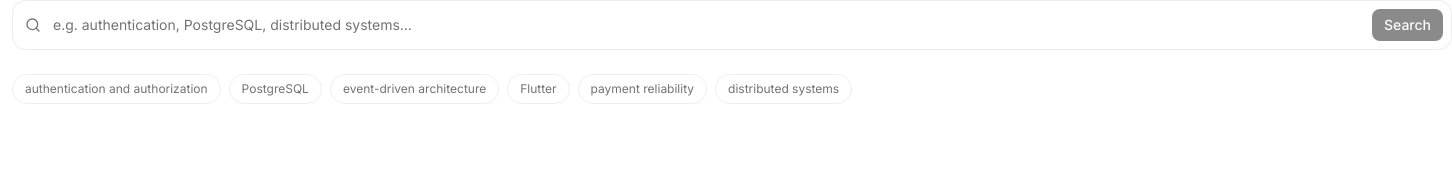
Test case: SearchPanel › renders structured result cards, not a text blob, on success
Type "PostgreSQL" into the field named "search projects" at (706, 25), box [49, 9, 1364, 41]
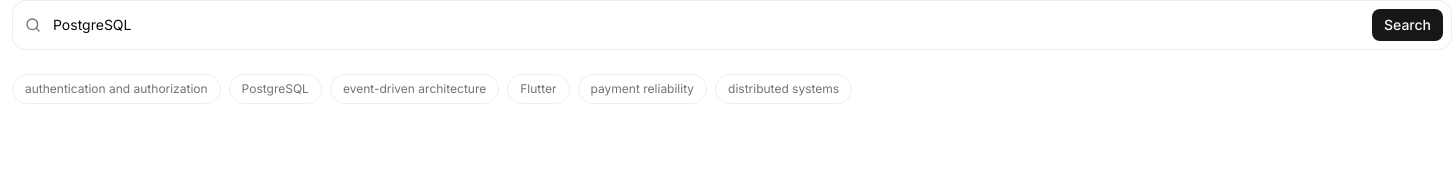
Click the button "Search" at (1408, 25), box [1372, 9, 1443, 41]
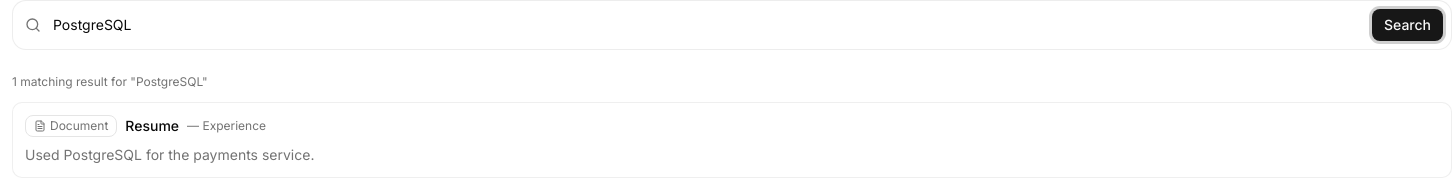
Now the text "1 matching result for \"PostgreSQL\"" is shown, box [12, 74, 208, 89]
Now the text "Used PostgreSQL for the payments service." is shown, box [25, 146, 314, 163]
Now the text "Resume" is shown, box [125, 116, 179, 136]
